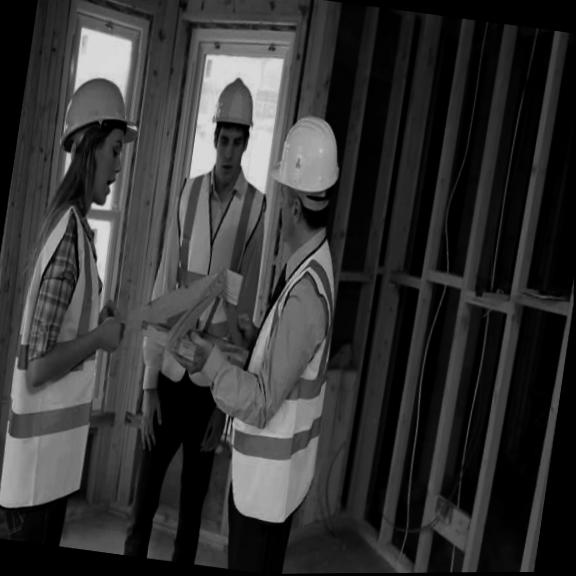safety_vest: (217, 219, 352, 530), (0, 193, 122, 522), (145, 165, 271, 406)
